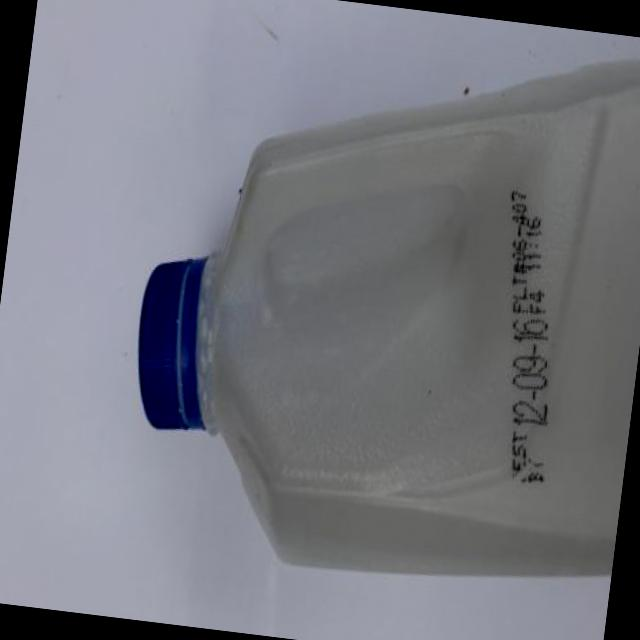Recycle: (114, 0, 640, 605)
